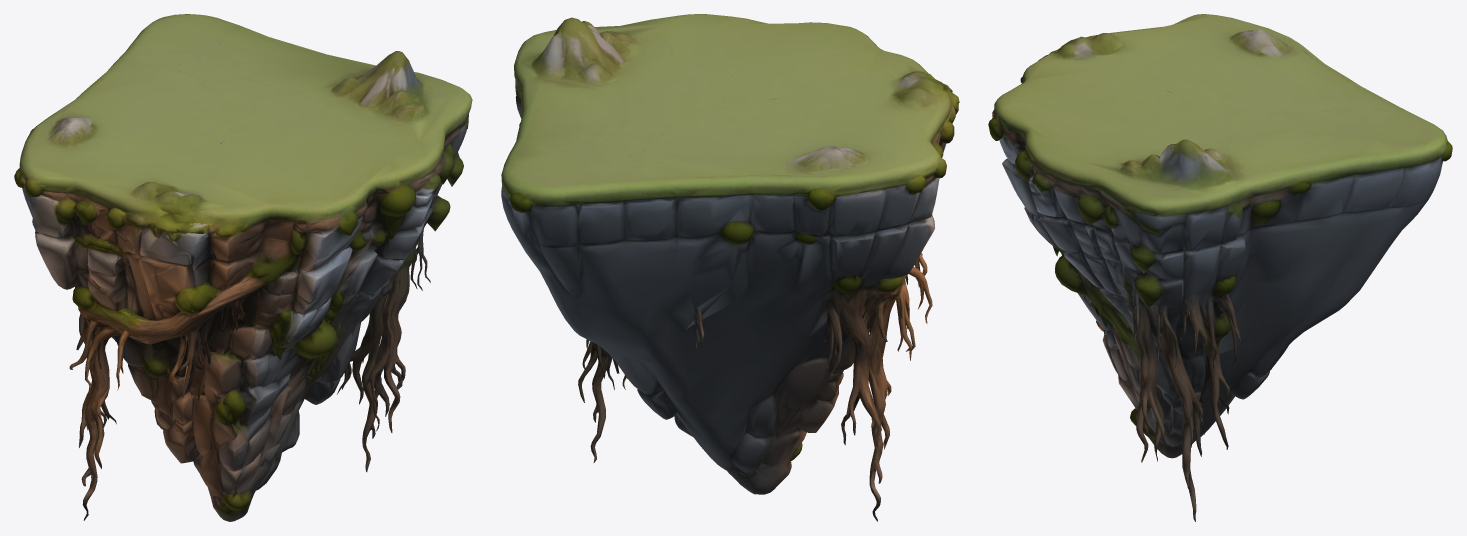
The model's file is islote.glb.
3 renders of one model, left to right at view 1: azimuth 30°, elevation 25°; view 2: azimuth 150°, elevation 25°; view 3: azimuth 270°, elevation 25°, orthographic. The views are drawn at different scales.
Parts seen in each view (by area): view 1: node_0; view 2: node_0; view 3: node_0.
Part boxes in pixels (bbox=[...]): node_0: bbox=[14, 14, 472, 521]; node_0: bbox=[501, 14, 959, 521]; node_0: bbox=[988, 14, 1452, 521].
Size of the model in its own units: 0.9346 by 0.889 by 0.9459.
Materials: 1 (1 with a texture image).
